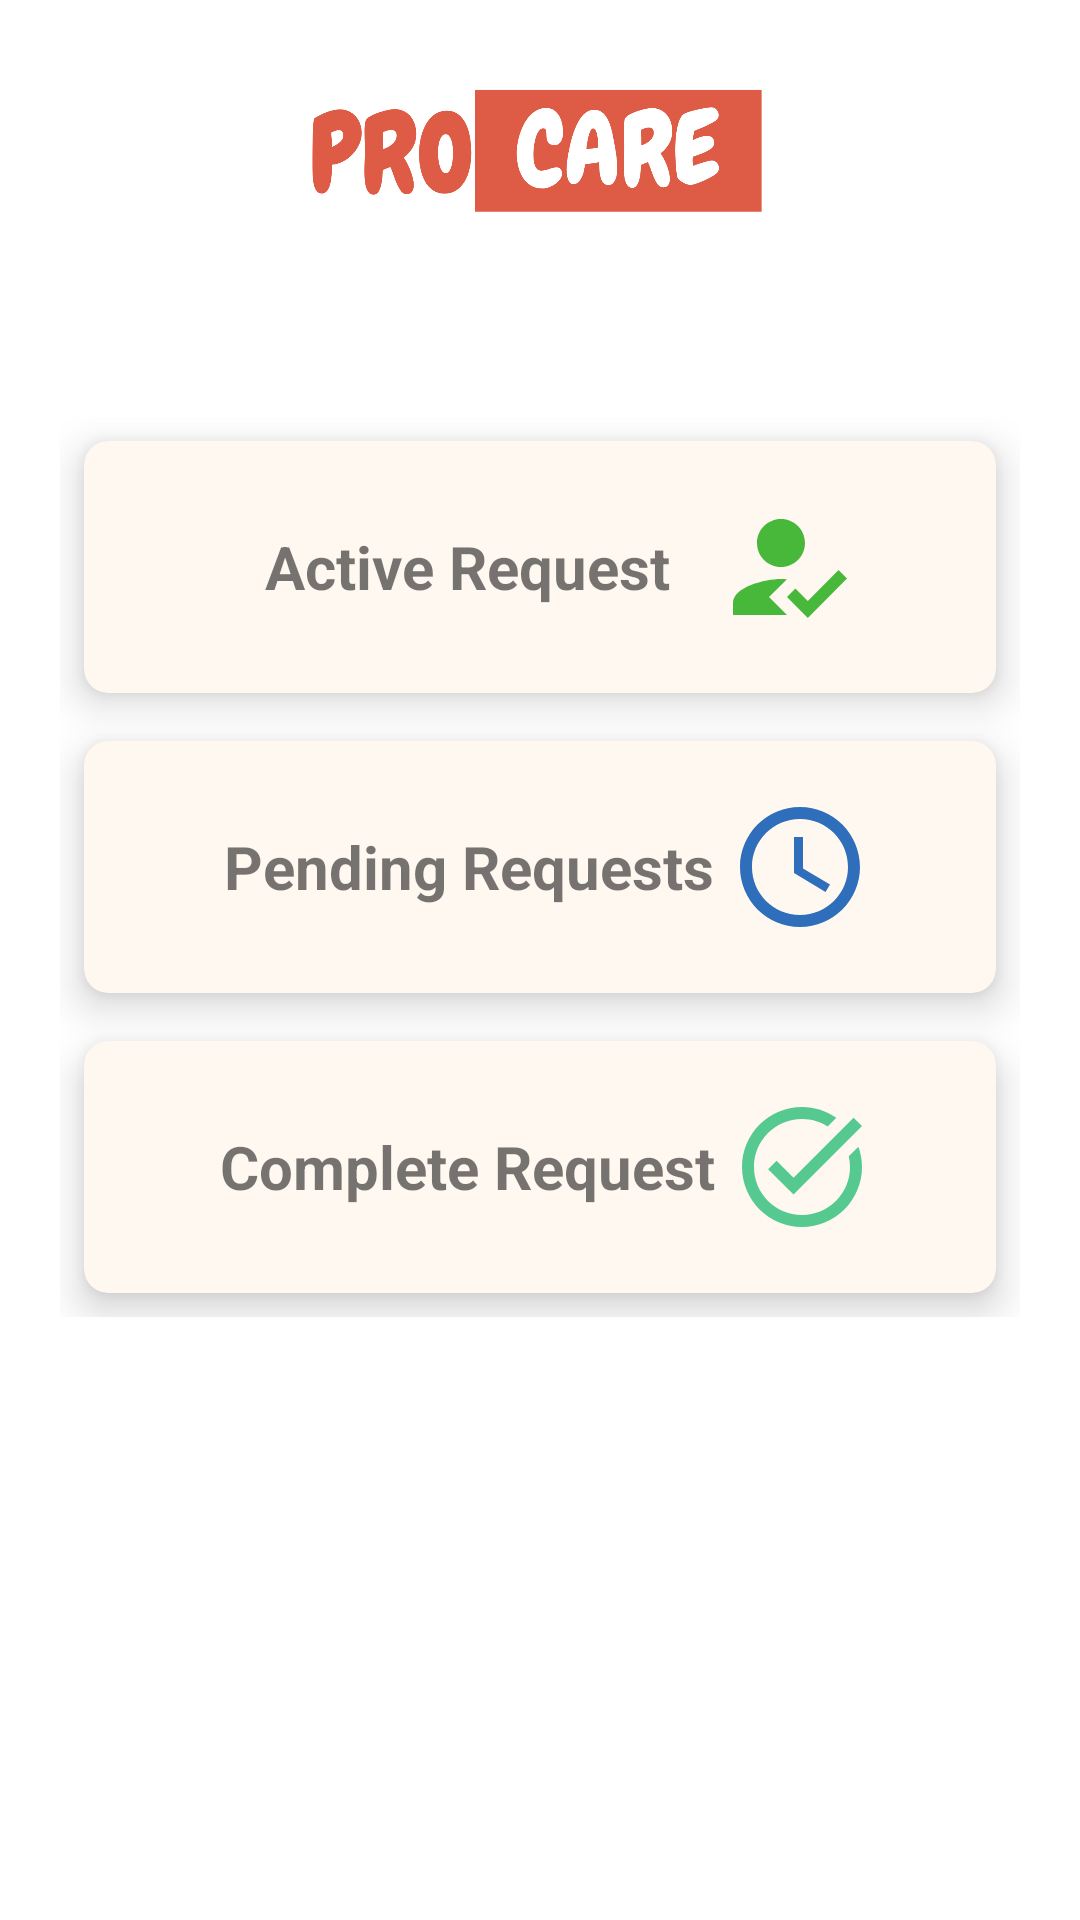

Locate icon controls on the screen. Image size 1080 × 1920, boxes as (x1, y1, x2, y2).
access time: (740, 807, 860, 927)
how to reg: (733, 519, 847, 618)
task: (742, 1107, 862, 1227)
